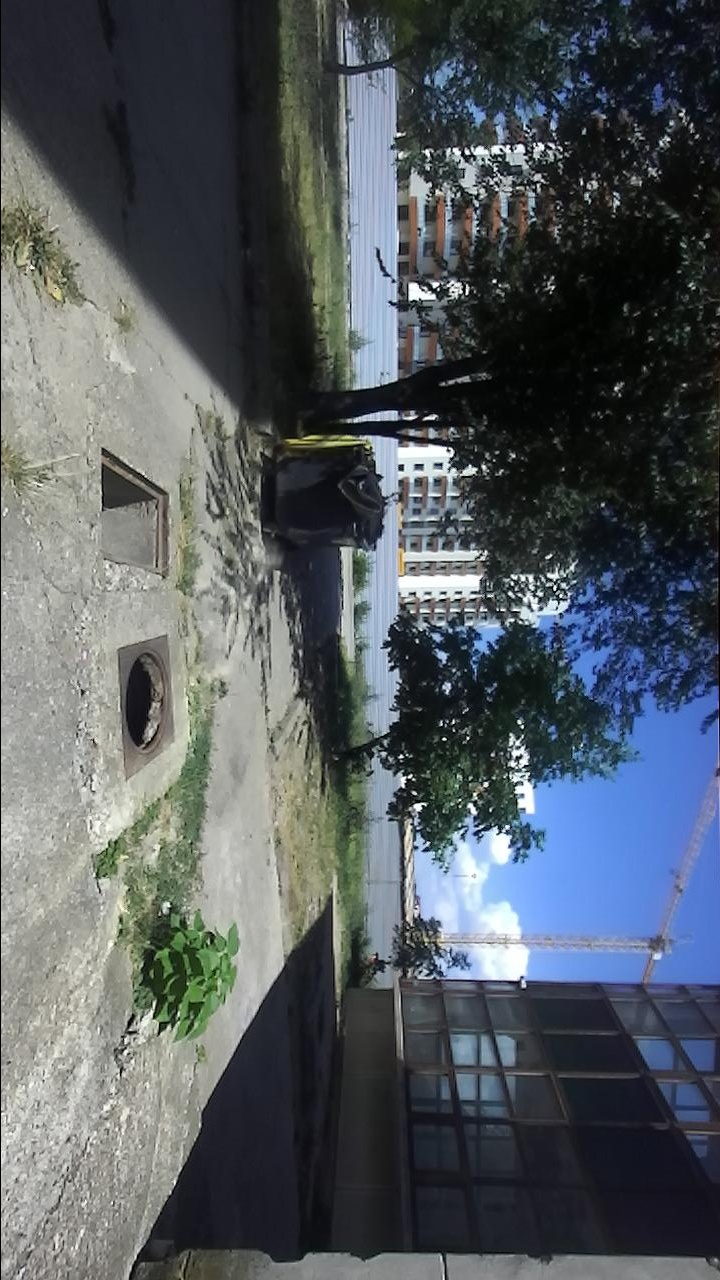drain: (94, 444, 176, 581), (122, 644, 171, 755)
